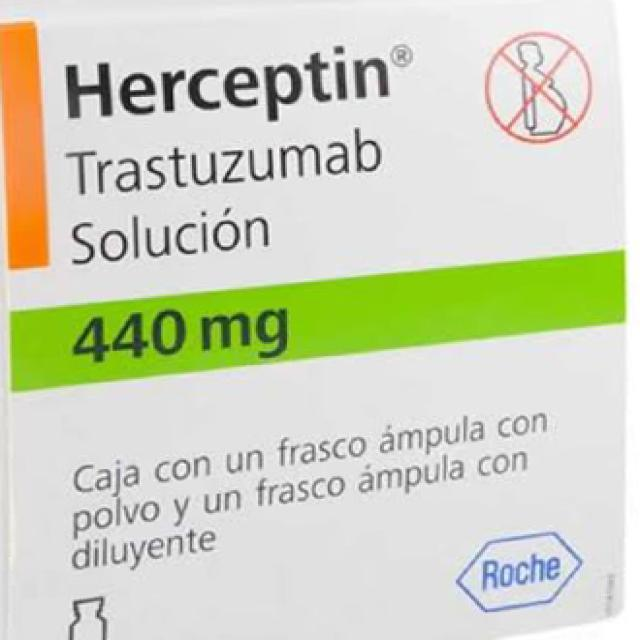drug-name: (55, 37, 391, 122)
